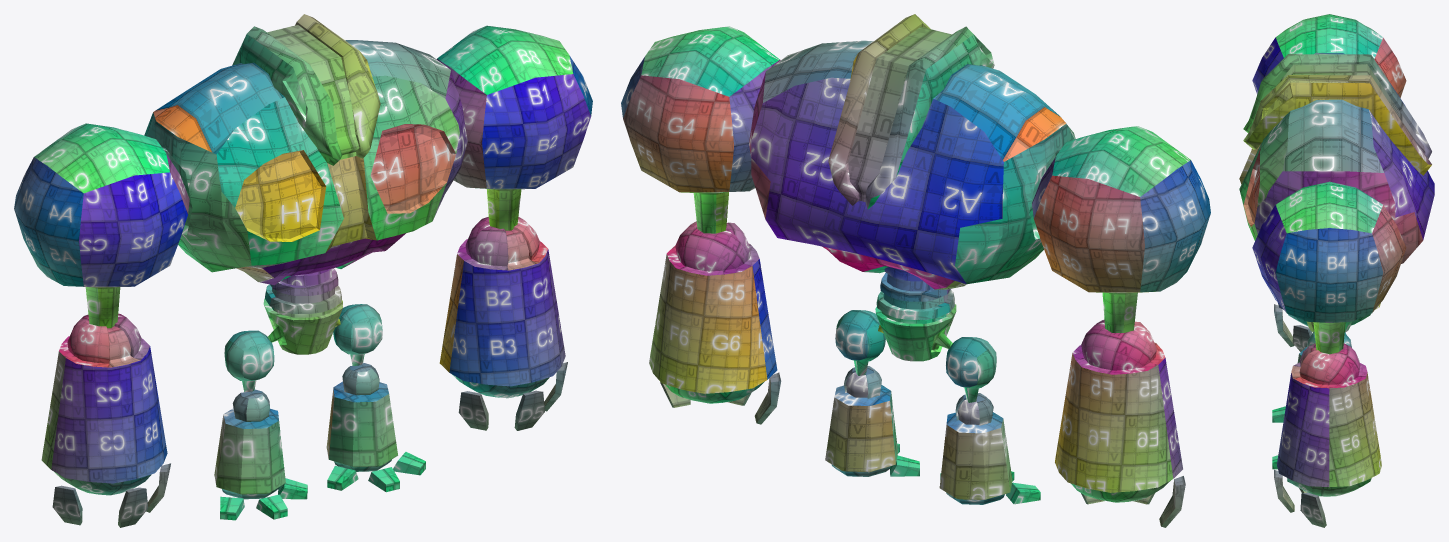
The model's file is Robot-UVs-Complete.fbx.
3 views of the same model, side by side, from view 1: azimuth 30°, elevation 25°; view 2: azimuth 150°, elevation 25°; view 3: azimuth 270°, elevation 25° (orthographic). The views are drawn at different scales.
Visible parts, largest first — view 1: Chest, R_Shoulder (×2), Forearm (×2), R_Shin (×2), Head, Torso, Hip_Joint (×2), M_Finger (×2), M_Finger2, M_Finger1; view 2: Chest, R_Shoulder (×2), Forearm (×2), Head, R_Shin (×2), Torso, Hip_Joint (×2), M_Finger1, M_Finger2; view 3: R_Shoulder (×2), Chest, Forearm, Head, M_Finger (×2), M_Finger1, M_Finger2.
Boxes of the visible parts, left/top/right/bottom form: Chest: left=144, top=40, right=467, bottom=285; R_Shoulder (×2): left=14, top=25, right=592, bottom=328; Forearm (×2): left=41, top=217, right=565, bottom=495; R_Shin (×2): left=214, top=363, right=397, bottom=499; Head: left=232, top=14, right=380, bottom=165; Torso: left=263, top=268, right=342, bottom=354; Hip_Joint (×2): left=224, top=304, right=382, bottom=392; M_Finger (×2): left=118, top=390, right=544, bottom=527; M_Finger2: left=458, top=391, right=488, bottom=430; M_Finger1: left=52, top=485, right=82, bottom=525; Chest: left=749, top=40, right=1075, bottom=289; R_Shoulder (×2): left=621, top=26, right=1210, bottom=332; Forearm (×2): left=649, top=221, right=1182, bottom=502; Head: left=828, top=14, right=994, bottom=209; R_Shin (×2): left=825, top=366, right=1012, bottom=504; Torso: left=875, top=267, right=956, bottom=361; Hip_Joint (×2): left=835, top=310, right=996, bottom=402; M_Finger1: left=1159, top=476, right=1185, bottom=527; M_Finger2: left=754, top=372, right=781, bottom=424; R_Shoulder (×2): left=1252, top=14, right=1406, bottom=354; Chest: left=1239, top=53, right=1434, bottom=263; Forearm: left=1277, top=343, right=1381, bottom=496; Head: left=1243, top=54, right=1431, bottom=175; M_Finger (×2): left=1274, top=304, right=1294, bottom=512; M_Finger1: left=1300, top=492, right=1326, bottom=527; M_Finger2: left=1292, top=325, right=1312, bottom=351.
Size of the model in its own units: 31.71 by 23.97 by 11.21.
Materials: 1 (1 with a texture image).
